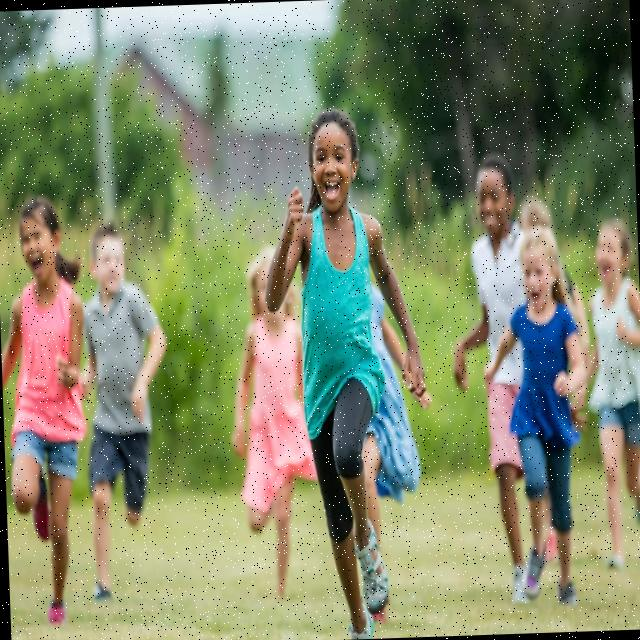Person: (258, 102, 434, 640), (480, 226, 594, 605), (0, 197, 94, 624), (444, 153, 532, 605), (74, 221, 176, 600), (225, 244, 309, 595), (588, 214, 640, 571)
